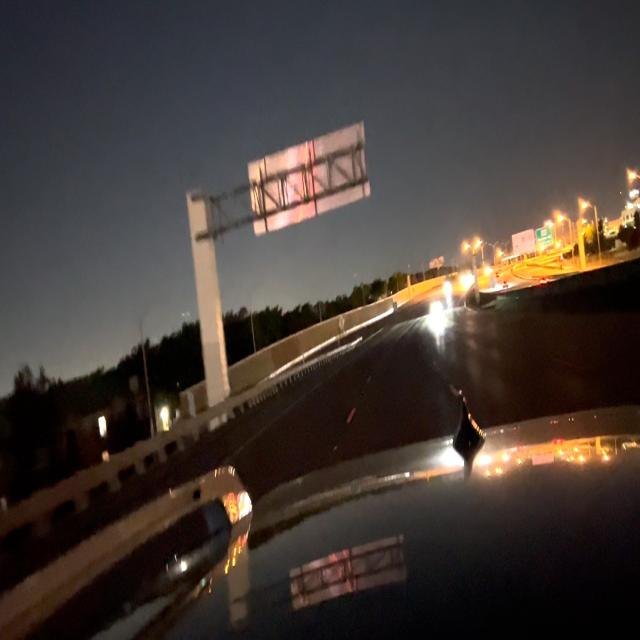back-of-sign: (245, 120, 371, 238)
